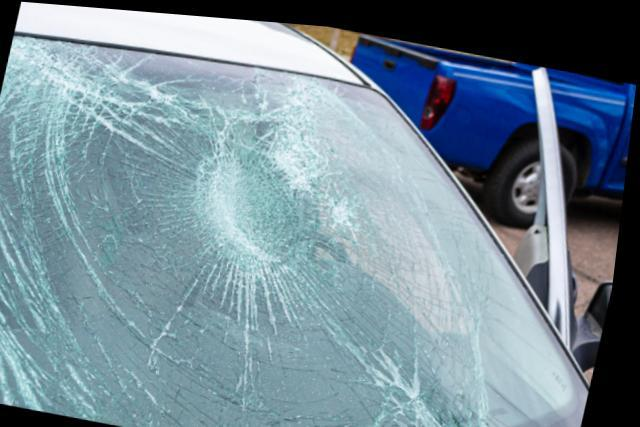glass shatter: (0, 34, 597, 427)
